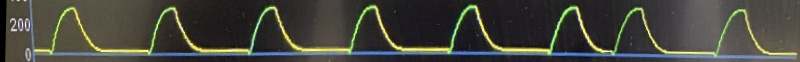normal_volume: (33, 0, 800, 62)
